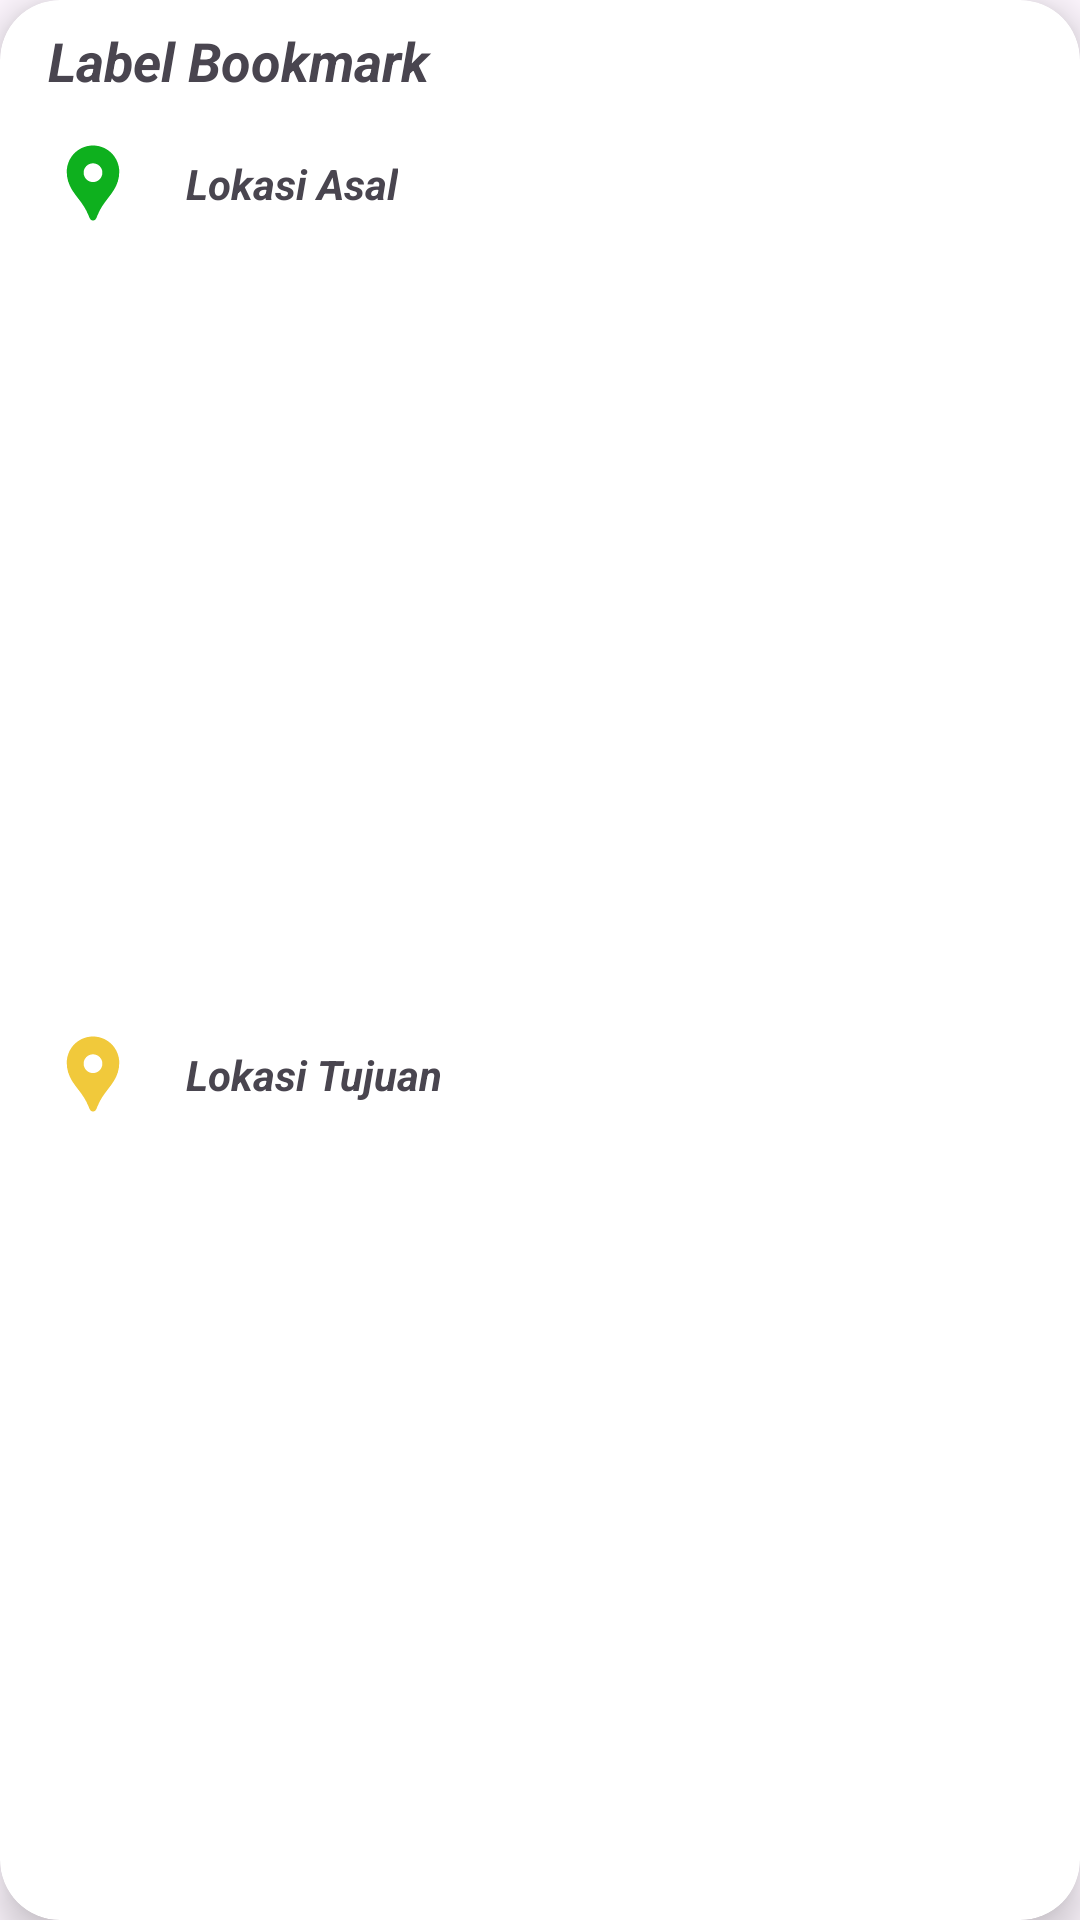

Where icons sit on this 1080px×1920px app screen, as (x1, y1, x2, y2):
location asal: (66, 145, 120, 221)
location tujuan: (66, 1036, 120, 1112)
